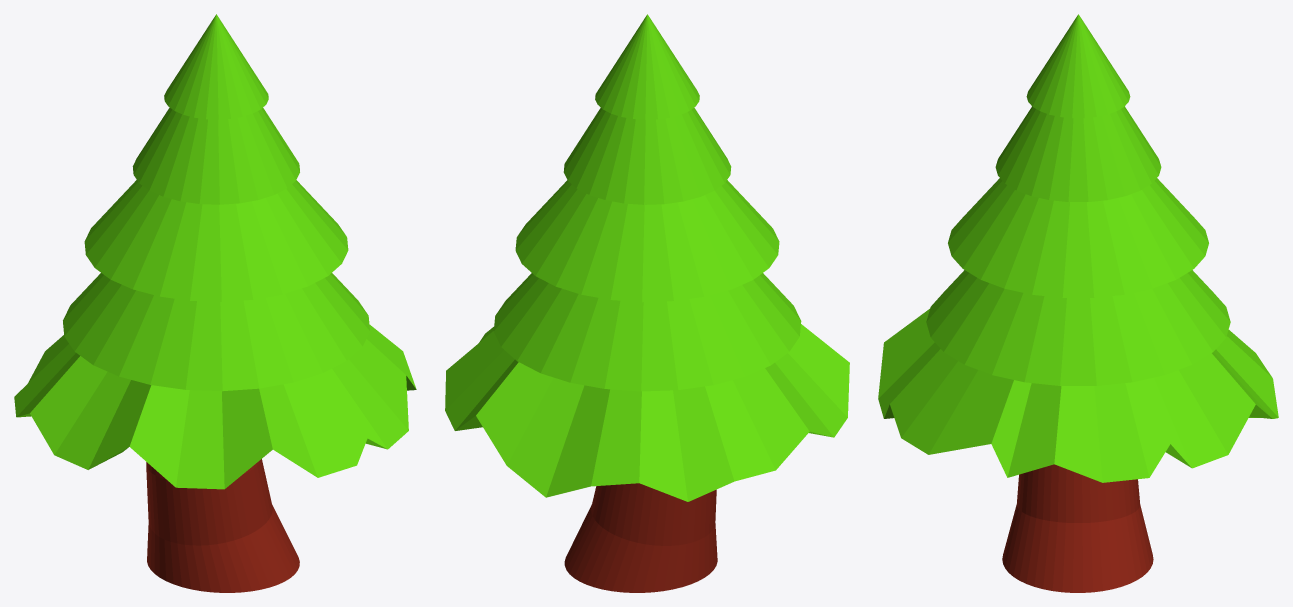
File: tree2.fbx
3 renders of one model, left to right at view 1: azimuth 30°, elevation 25°; view 2: azimuth 150°, elevation 25°; view 3: azimuth 270°, elevation 25°, orthographic.
Visible parts, largest first — view 1: Cone.002, Cone.001, Cone.003, Cylinder, Cone.004, Cone.005; view 2: Cone.002, Cone.001, Cone.003, Cylinder, Cone.004, Cone.005; view 3: Cone.002, Cone.001, Cone.003, Cylinder, Cone.004, Cone.005.
Part boxes in pixels (box(x1,y1,x2,y2)): Cone.002: box(14, 325, 416, 489); Cone.001: box(63, 273, 369, 391); Cone.003: box(84, 180, 348, 301); Cylinder: box(146, 459, 299, 592); Cone.004: box(132, 107, 299, 204); Cone.005: box(164, 14, 268, 119); Cone.002: box(445, 324, 849, 501); Cone.001: box(493, 273, 801, 391); Cone.003: box(515, 180, 779, 302); Cylinder: box(564, 483, 717, 592); Cone.004: box(563, 107, 731, 204); Cone.005: box(595, 14, 699, 119); Cone.002: box(878, 309, 1278, 482); Cone.001: box(926, 270, 1230, 385); Cone.003: box(948, 178, 1208, 297); Cylinder: box(1002, 464, 1153, 592); Cone.004: box(995, 106, 1161, 201); Cone.005: box(1026, 14, 1130, 118).
Bounding box in the file's own units: 349 × 526 × 351.
